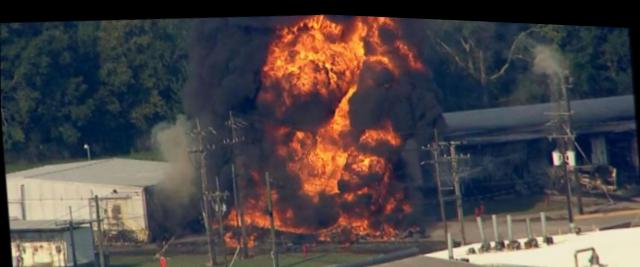fire: (275, 29, 361, 83), (299, 126, 327, 191), (291, 17, 342, 35), (327, 117, 338, 186), (359, 122, 396, 140), (243, 209, 269, 225), (358, 13, 366, 56), (367, 48, 392, 61), (339, 213, 368, 224), (282, 221, 311, 232), (337, 144, 347, 175), (366, 13, 378, 36), (263, 52, 272, 79), (339, 90, 350, 112), (332, 103, 341, 128), (270, 43, 276, 76), (306, 11, 325, 21), (385, 193, 397, 207), (359, 151, 369, 165), (398, 36, 409, 46), (379, 13, 391, 22), (346, 79, 356, 89), (409, 52, 419, 61), (271, 212, 278, 224), (386, 219, 394, 229), (343, 112, 350, 122), (405, 46, 414, 52)
smoke: (146, 112, 198, 231), (187, 13, 261, 86), (362, 65, 444, 117), (400, 138, 430, 211), (200, 113, 233, 177), (527, 32, 570, 70), (185, 85, 230, 113), (397, 115, 445, 137), (233, 128, 249, 192), (247, 133, 272, 168), (231, 84, 254, 120), (298, 199, 334, 220), (401, 14, 428, 36), (351, 88, 366, 119), (277, 172, 295, 197), (259, 12, 270, 41)
